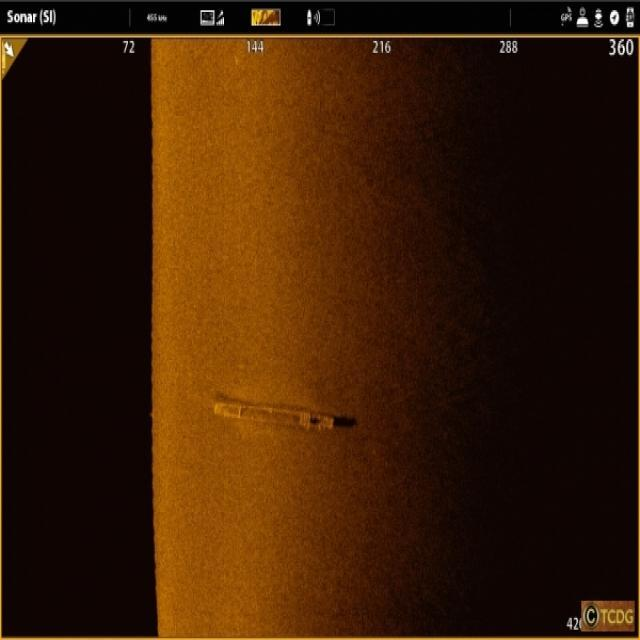shipwreck: (209, 391, 335, 438)
